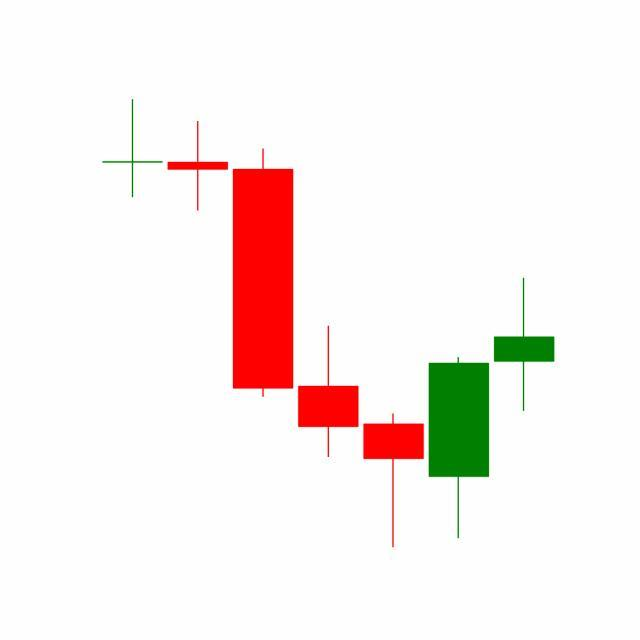Three Outside Up-Down: (360, 274, 556, 548)
